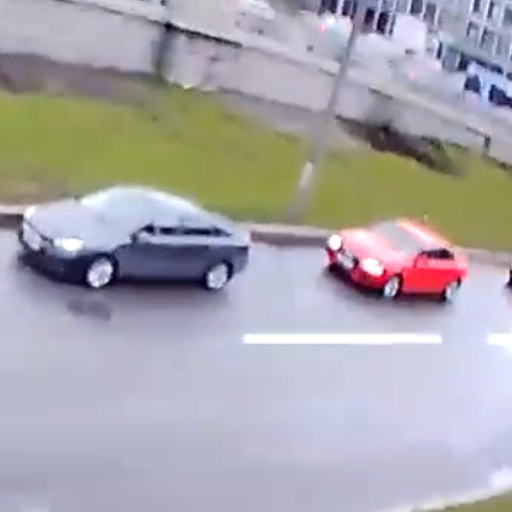Car: (15, 185, 251, 292), (324, 217, 467, 302)
